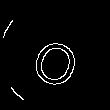O_N: (25, 23, 85, 87)
